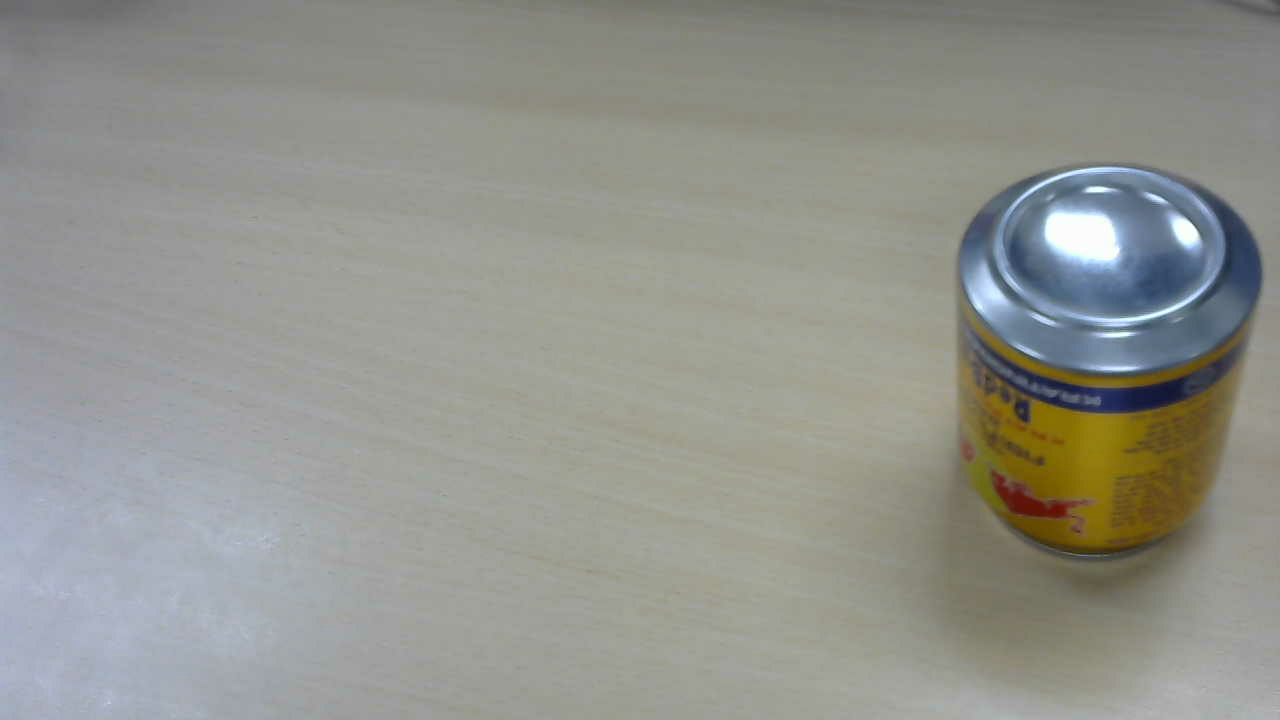Red_Bull: (961, 158, 1267, 568)
